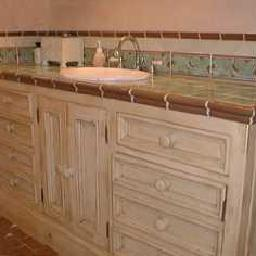Lavaplatos: (60, 41, 162, 86)
